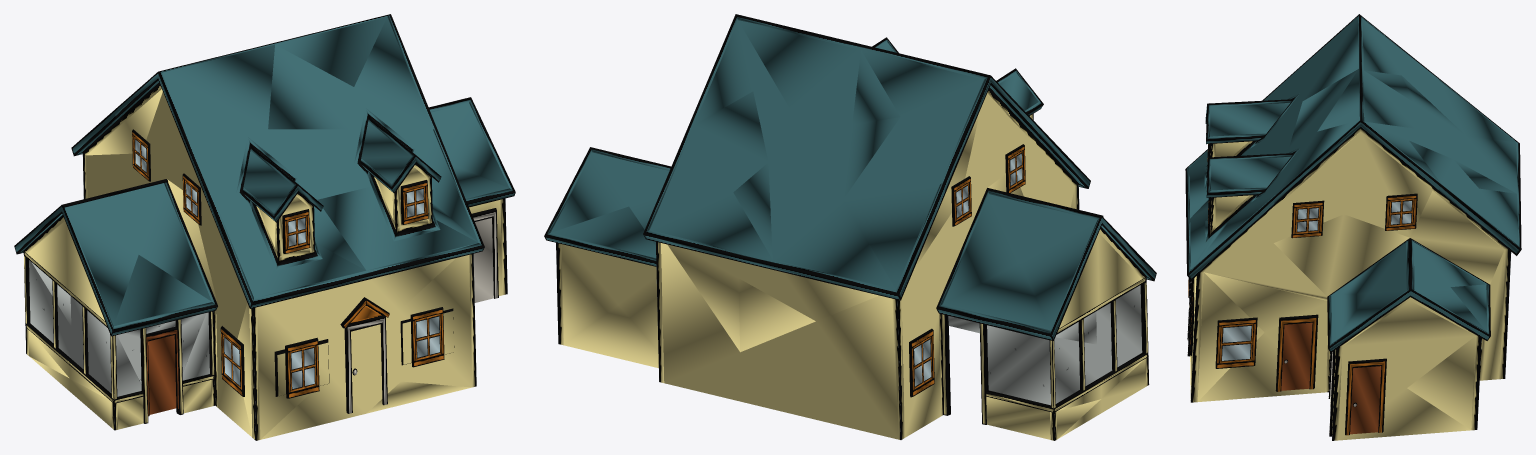
The model's file is House.obj.
3 renders of one model, left to right at view 1: azimuth 30°, elevation 25°; view 2: azimuth 150°, elevation 25°; view 3: azimuth 270°, elevation 25°, orthographic. The views are drawn at different scales.
Visible parts, largest first — view 1: mesh_2_99_nr; view 2: mesh_2_99_nr; view 3: mesh_2_99_nr.
Part boxes in pixels (x1=…): mesh_2_99_nr: x1=14, y1=14, x2=515, y2=440; mesh_2_99_nr: x1=544, y1=14, x2=1156, y2=440; mesh_2_99_nr: x1=1185, y1=14, x2=1521, y2=440.
Size of the model in its own units: 21.37 by 14.11 by 15.11.
